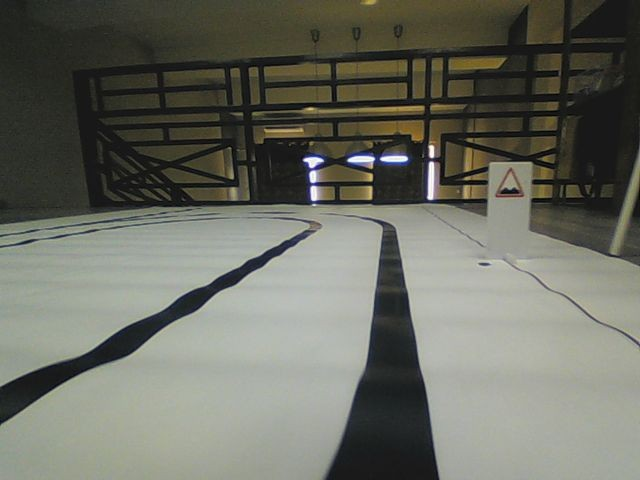Nerov: (495, 166, 525, 199)
